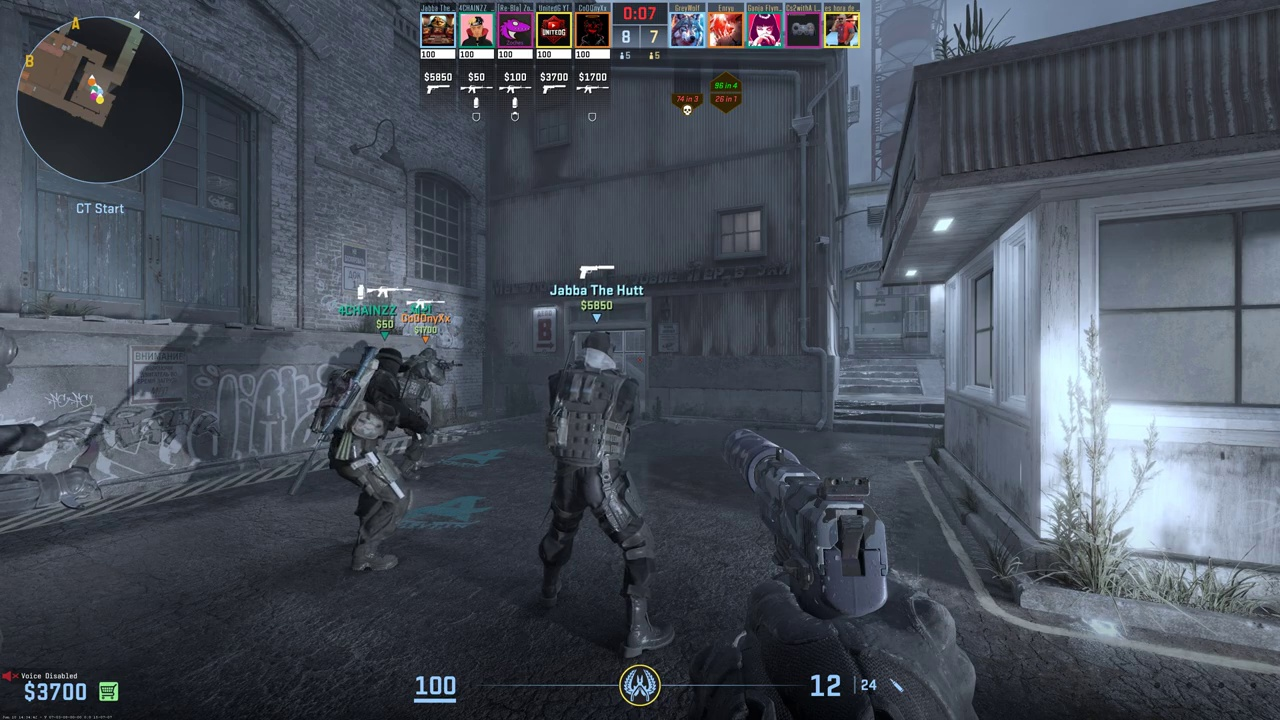CT: (536, 332, 654, 613), (332, 347, 406, 571), (402, 348, 448, 482)
